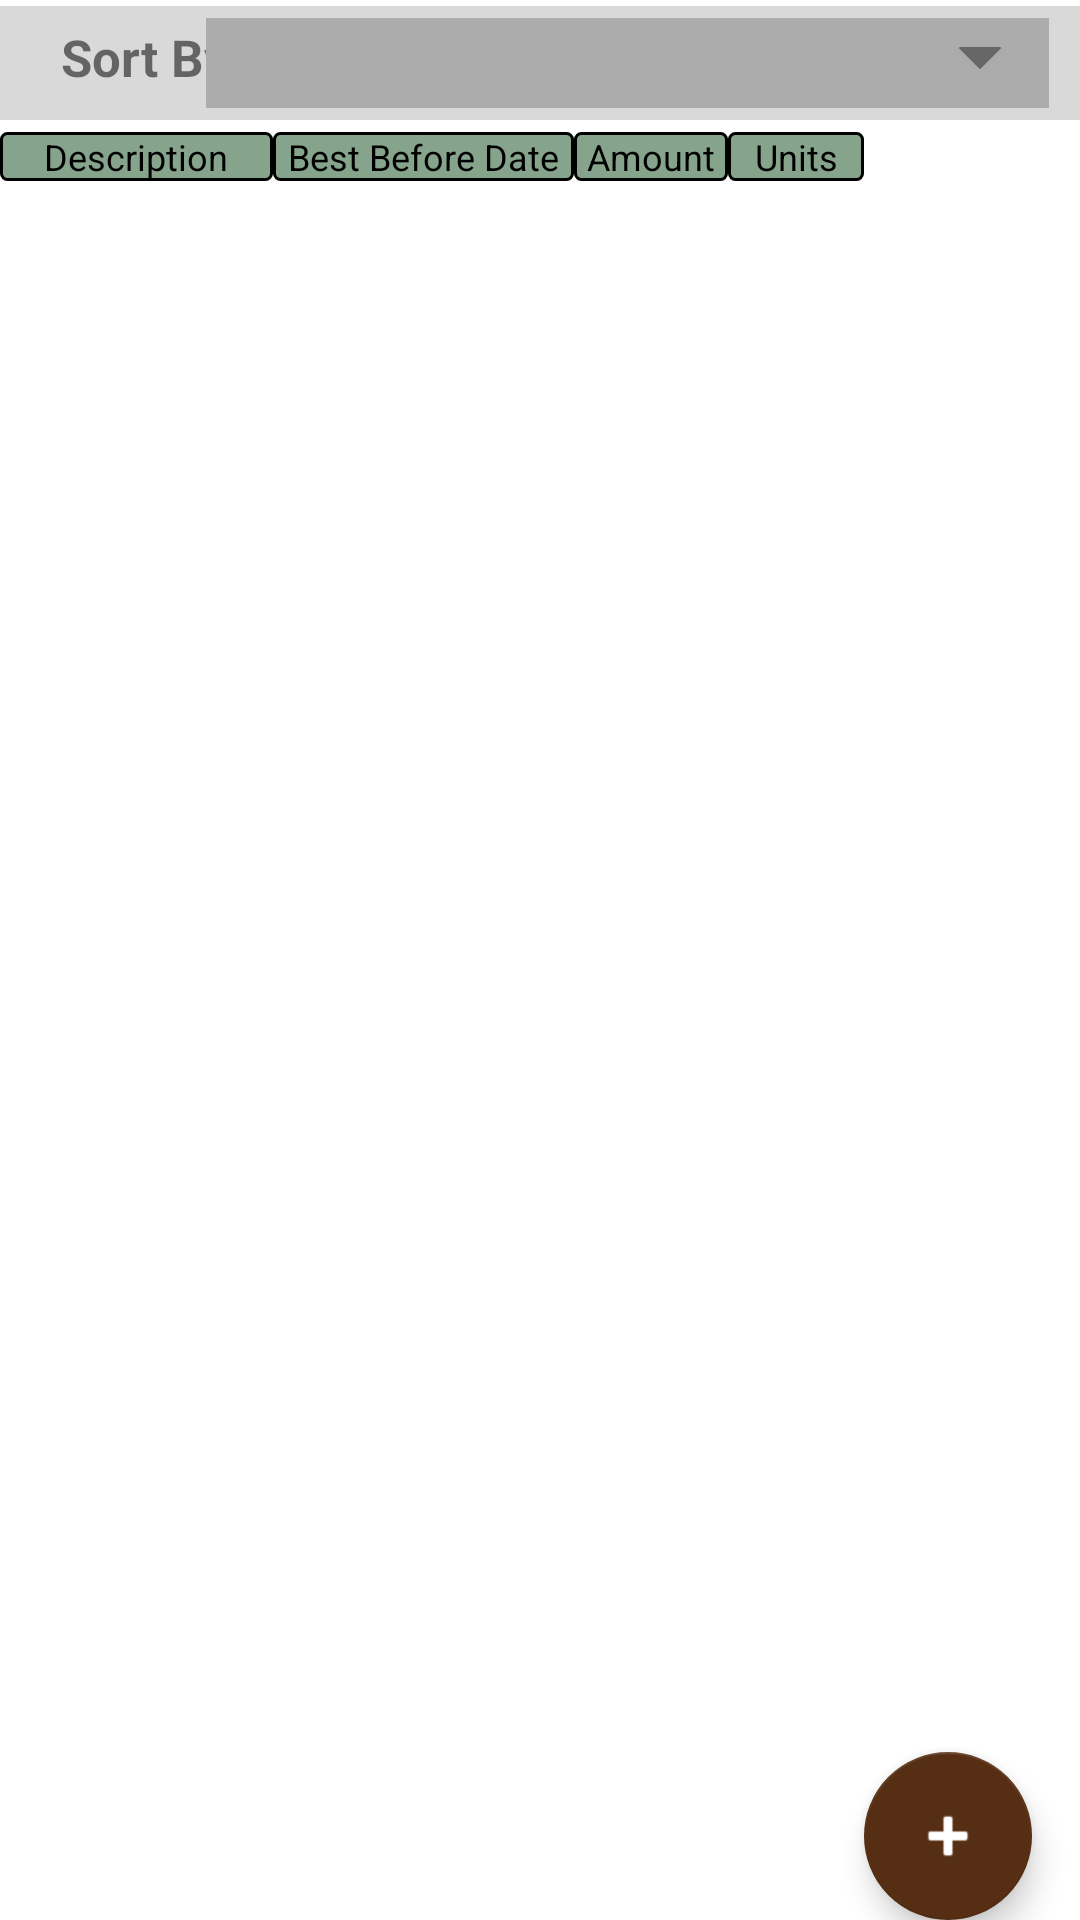

Point at icon controls on the screen. Image size 1080*1920, points as point (x, y).
add: point (948, 1836)
